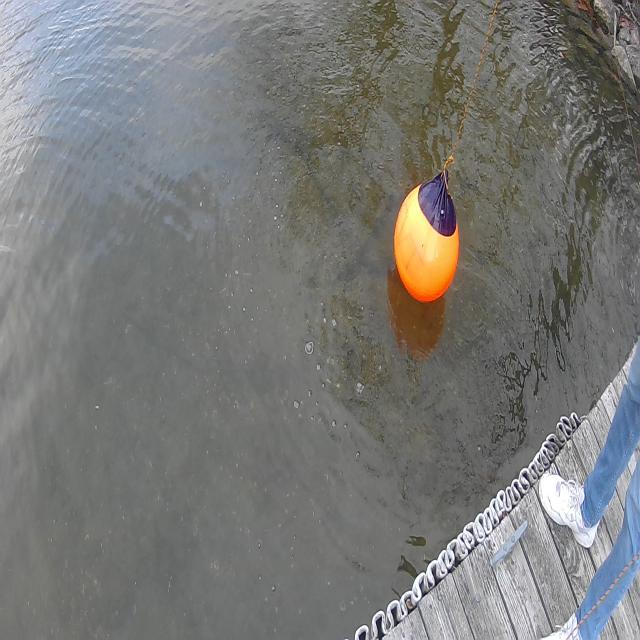Buoy: (389, 171, 466, 319)
